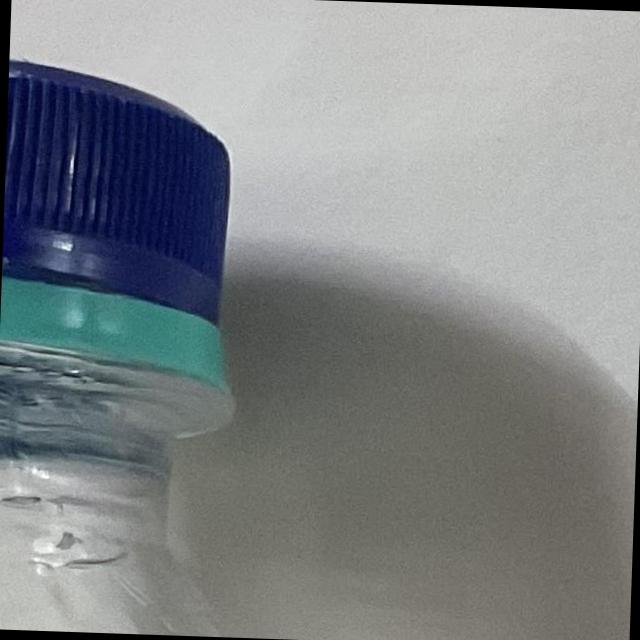Good-cap-Df0S: (0, 37, 265, 417)
